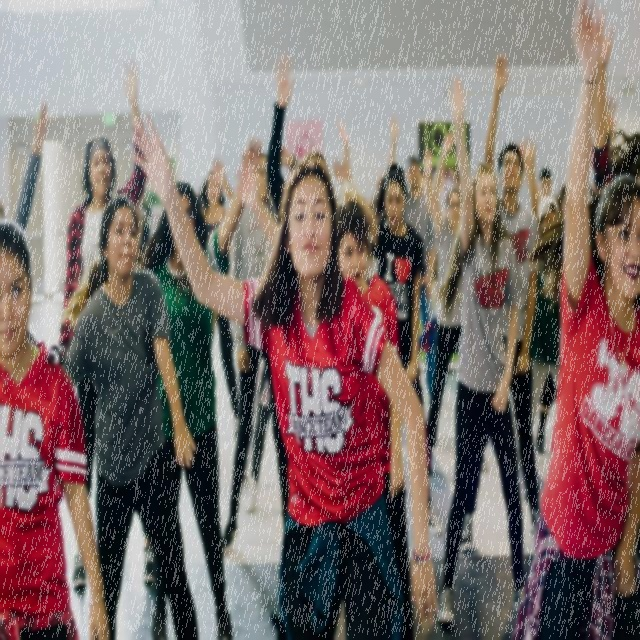pessoa: (131, 109, 441, 638), (232, 155, 417, 639), (56, 190, 202, 639), (140, 136, 264, 639), (57, 55, 156, 592), (436, 74, 527, 626), (0, 218, 112, 638), (508, 84, 634, 448), (570, 0, 640, 639), (332, 148, 442, 538), (458, 50, 543, 553), (220, 150, 294, 558), (386, 110, 439, 405), (264, 50, 339, 238), (422, 125, 463, 461), (197, 165, 242, 438), (234, 340, 278, 518), (0, 98, 50, 245), (336, 113, 384, 227), (522, 132, 568, 225), (416, 146, 461, 228), (132, 184, 154, 274), (282, 149, 304, 189), (430, 227, 441, 299)
